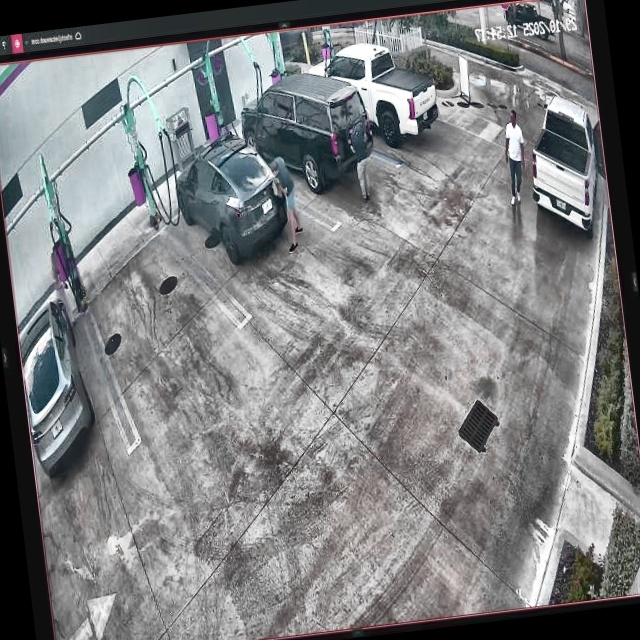Car: (170, 130, 294, 271), (238, 80, 377, 202)
